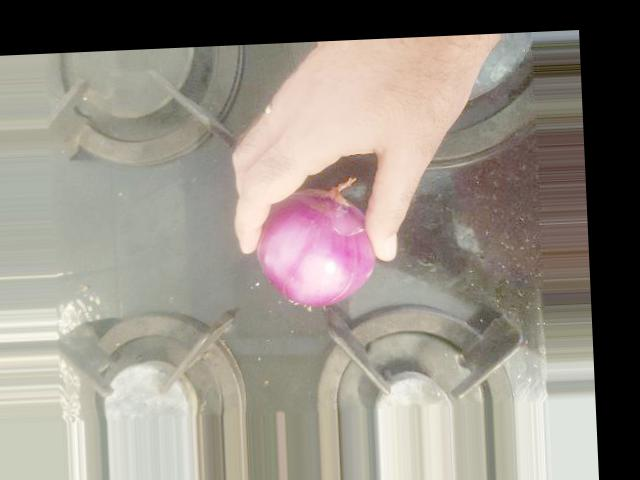onion: (254, 188, 382, 306)
